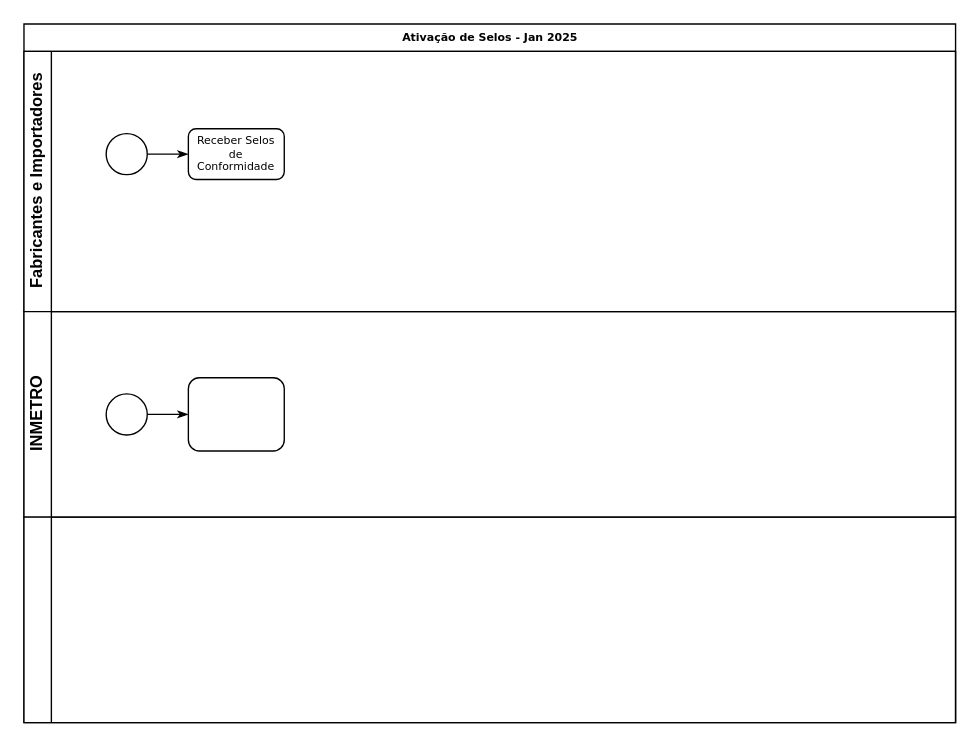
The diagram is 980 pixels wide and 747 high, and some of its shapes have lost their labels. The shapes that lost their labels are listed below. From the top down, each one's box as (x1, y1, x2, y2) in pixels, then its label:
(187, 376, 284, 451): Disponibilizar Informações por No. de Registro (URL)
(23, 516, 956, 723): Pharos
